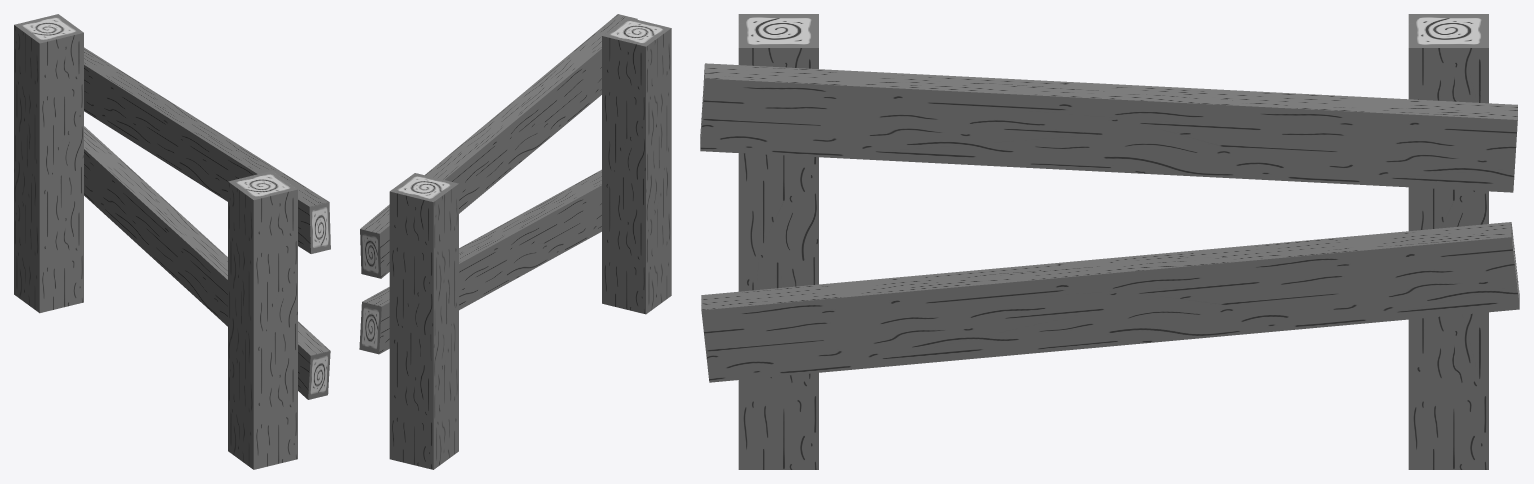
The model's file is Asset_Fence.fbx.
The picture shows the model from 3 angles, left to right: view 1: azimuth 30°, elevation 25°; view 2: azimuth 150°, elevation 25°; view 3: azimuth 270°, elevation 25°; orthographic projection. The views are drawn at different scales.
Visible parts, largest first — view 1: polySurface99; view 2: polySurface99; view 3: polySurface99.
Part boxes in pixels (x1=…): polySurface99: x1=14, y1=14, x2=330, y2=469; polySurface99: x1=359, y1=14, x2=671, y2=469; polySurface99: x1=700, y1=14, x2=1519, y2=469.
Size of the model in its own units: 20.6 by 144 by 81.74.
